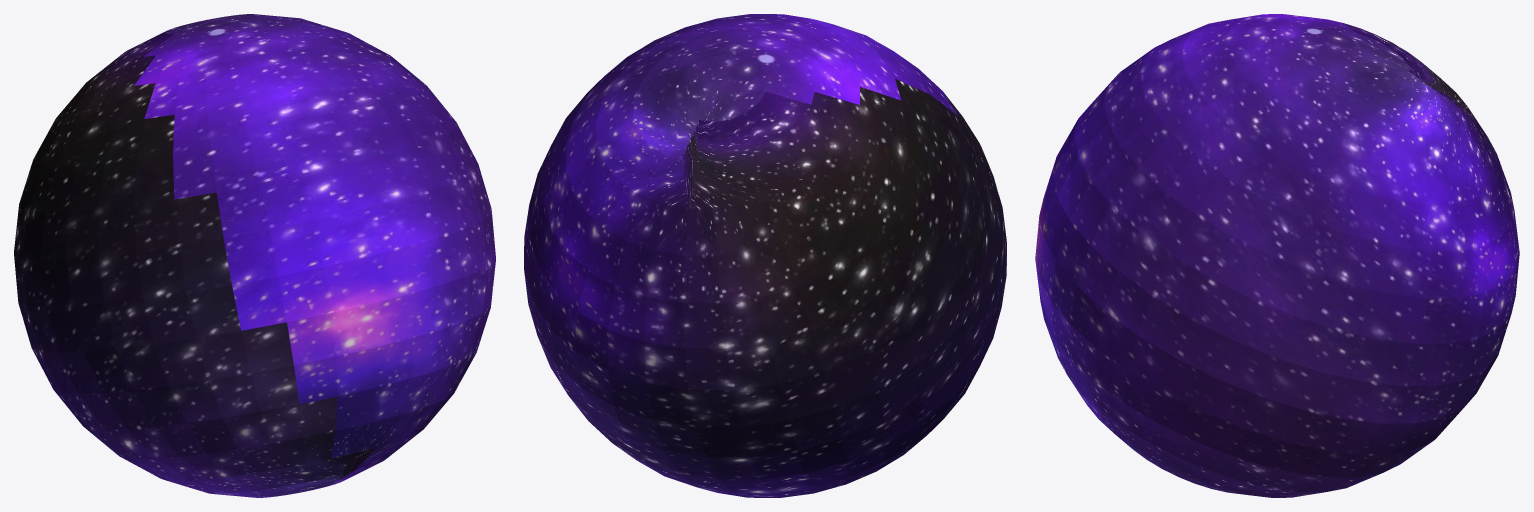
File: untitledv3.fbx
3 views of the same model, side by side, from view 1: azimuth 30°, elevation 25°; view 2: azimuth 150°, elevation 25°; view 3: azimuth 270°, elevation 25° (orthographic).
Parts seen in each view (by area): view 1: Sphere; view 2: Sphere; view 3: Sphere.
Boxes of the visible parts, x1=… form: Sphere: x1=14, y1=14, x2=495, y2=497; Sphere: x1=524, y1=14, x2=1006, y2=497; Sphere: x1=1035, y1=14, x2=1519, y2=497.
Bounding box in the file's own units: 4.11 × 4.11 × 4.11.
